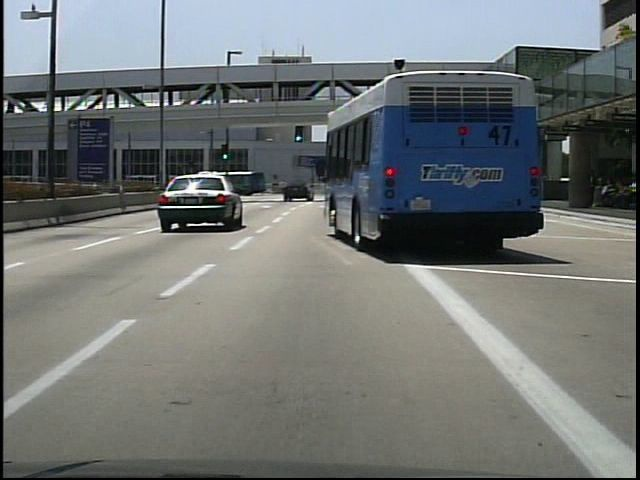person: (585, 168, 600, 209)
